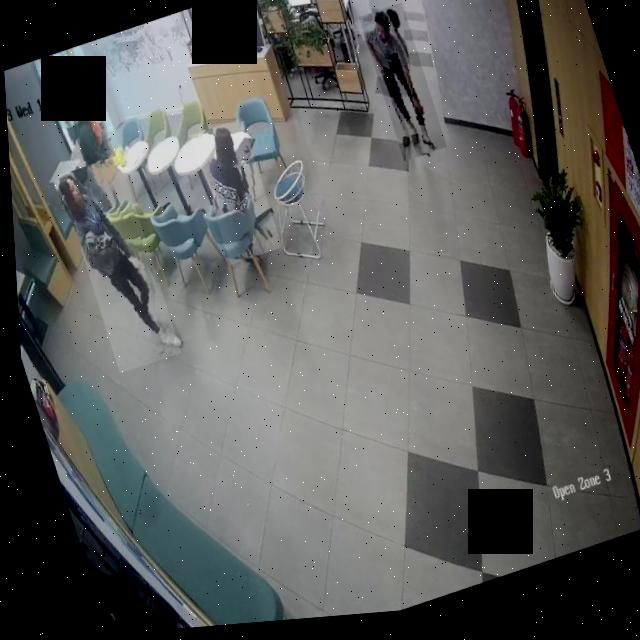person: (55, 154, 177, 378), (358, 7, 445, 170), (187, 119, 279, 270), (56, 86, 129, 222)
